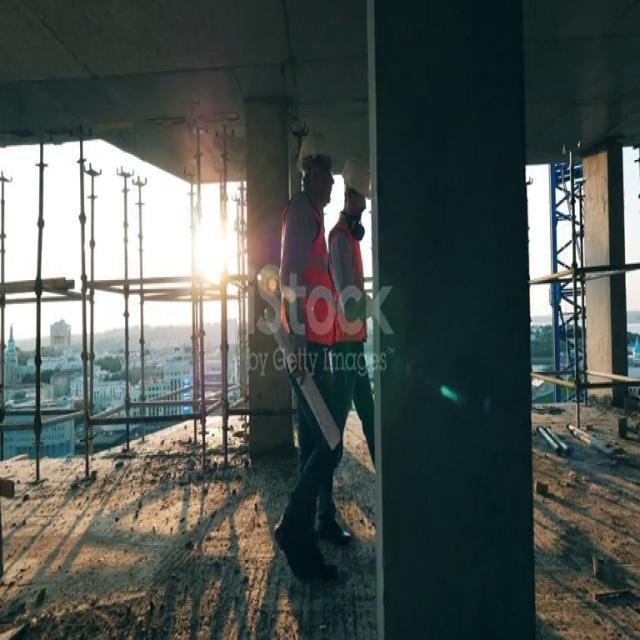capacete: (340, 144, 380, 210), (295, 128, 339, 184)
